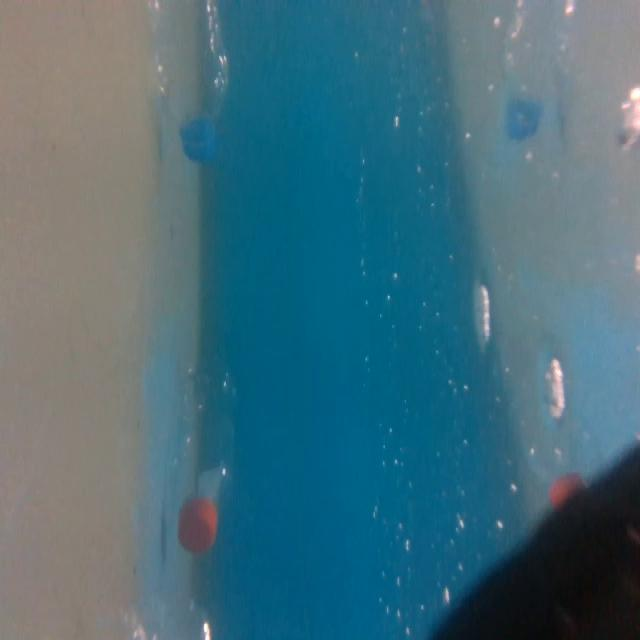plastic bags: (160, 323, 248, 564), (143, 0, 242, 168)
